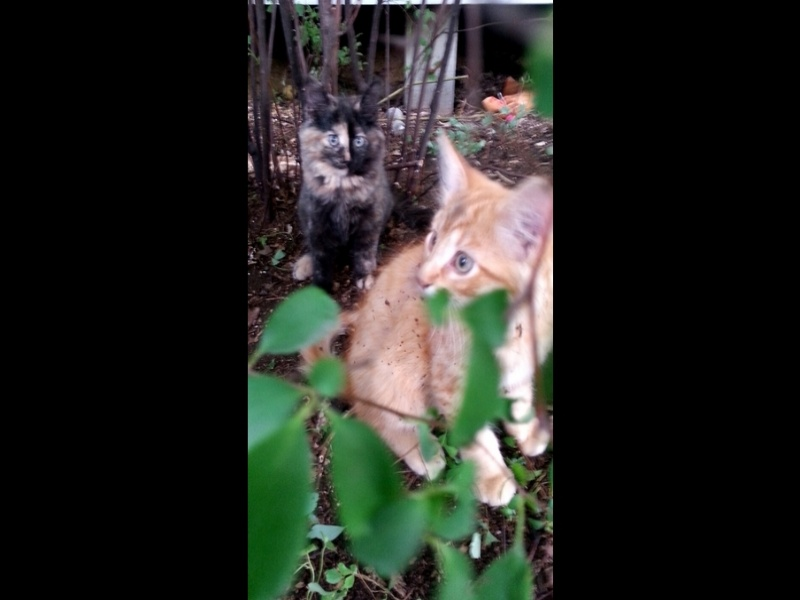cat: (339, 133, 550, 505), (285, 84, 391, 292)
